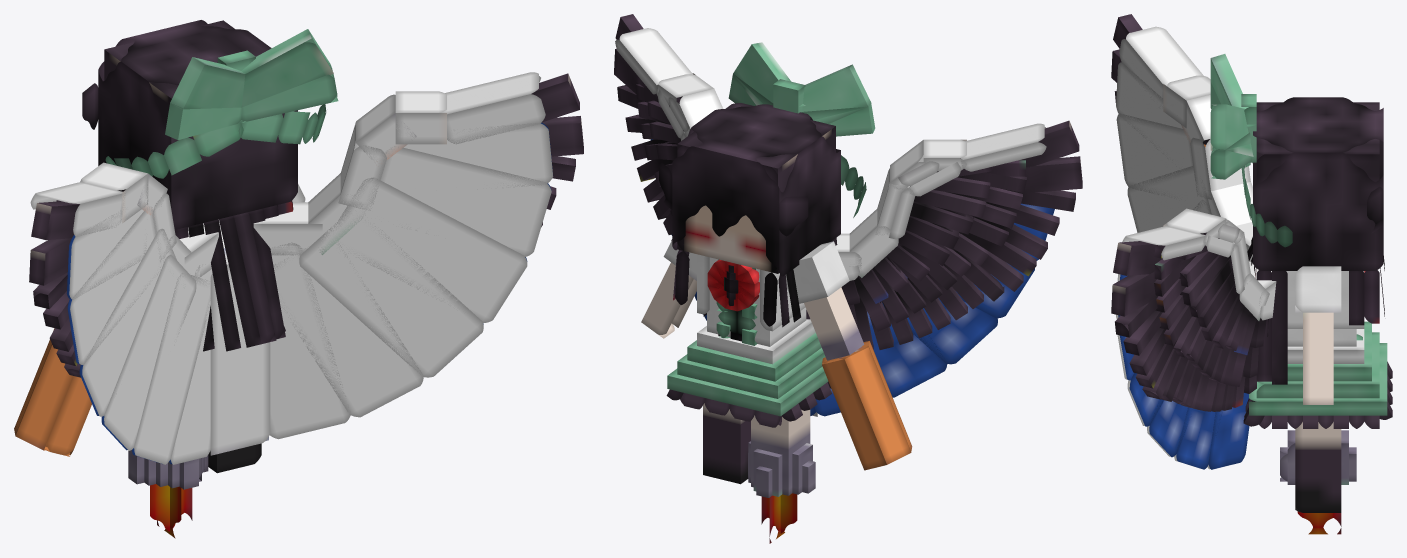
File: reiuji_utsuho.obj
3 views of the same model, side by side, from view 1: azimuth 30°, elevation 25°; view 2: azimuth 150°, elevation 25°; view 3: azimuth 270°, elevation 25° (orthographic). The views are drawn at different scales.
Parts seen in each view (by area): view 1: head, darkCloth9, darkCloth8, darkCloth10, darkCloth7, darkCloth6, bone146, darkCloth3, darkCloth4, darkCloth12, darkCloth5, cloth6 (+32 smaller); view 2: head, skirt, armLeft, blink, bootsLeft, bone12, legRight, darkCloth3, chestPlate, body, cloth6, cloth15 (+48 smaller); view 3: head, skirt, armRight, darkCloth12, legRight, darkCloth5, cloth15, bone75, darkCloth13, darkCloth6, body, darkCloth7 (+53 smaller).
Part boxes in pixels (left/top/right/bottom): head: left=98, top=20, right=297, bottom=229; darkCloth9: left=335, top=177, right=527, bottom=322; darkCloth8: left=299, top=211, right=483, bottom=377; darkCloth10: left=379, top=146, right=551, bottom=256; darkCloth7: left=273, top=241, right=423, bottom=417; darkCloth6: left=270, top=242, right=350, bottom=439; bone146: left=210, top=264, right=270, bottom=455; darkCloth3: left=132, top=273, right=210, bottom=464; darkCloth4: left=101, top=254, right=196, bottom=450; darkCloth12: left=67, top=207, right=160, bottom=364; darkCloth5: left=79, top=228, right=176, bottom=416; cloth6: left=440, top=72, right=545, bottom=144; head: left=672, top=103, right=840, bottom=276; skirt: left=667, top=319, right=828, bottom=416; armLeft: left=785, top=241, right=864, bottom=360; blink: left=677, top=145, right=777, bottom=272; bootsLeft: left=748, top=441, right=815, bottom=533; bone12: left=838, top=347, right=910, bottom=464; legRight: left=703, top=403, right=750, bottom=484; darkCloth3: left=867, top=311, right=947, bottom=397; chestPlate: left=822, top=341, right=886, bottom=470; body: left=697, top=254, right=806, bottom=346; cloth6: left=615, top=28, right=692, bottom=94; cloth15: left=960, top=123, right=1046, bottom=171; head: left=1253, top=97, right=1383, bottom=270; skirt: left=1249, top=321, right=1387, bottom=415; armRight: left=1295, top=266, right=1341, bottom=404; darkCloth12: left=1116, top=113, right=1192, bottom=198; legRight: left=1295, top=422, right=1341, bottom=512; darkCloth5: left=1127, top=166, right=1211, bottom=232; cloth15: left=1119, top=26, right=1203, bottom=107; bone75: left=1272, top=271, right=1364, bottom=384; darkCloth13: left=1116, top=62, right=1182, bottom=166; darkCloth6: left=1207, top=393, right=1249, bottom=469; body: left=1286, top=271, right=1364, bottom=346; darkCloth7: left=1174, top=407, right=1222, bottom=469.
Bounding box in the file's own units: 2.33 × 2.1 × 1.14.
Materials: 1 (1 with a texture image).
